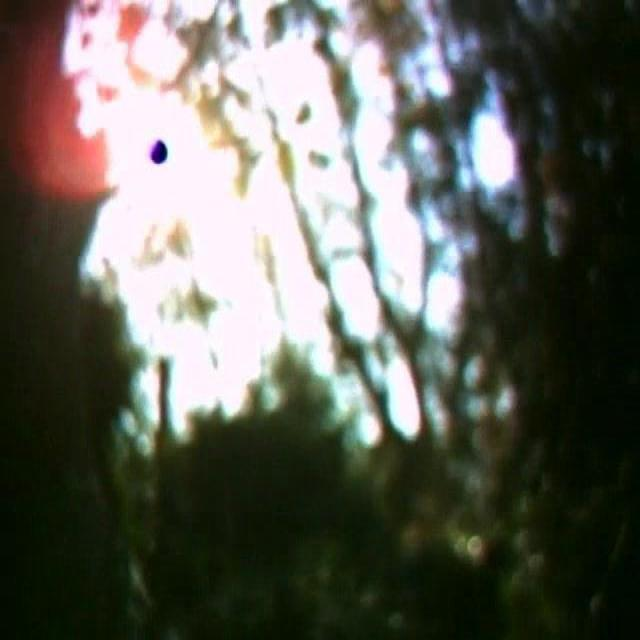other: (60, 16, 536, 443)
